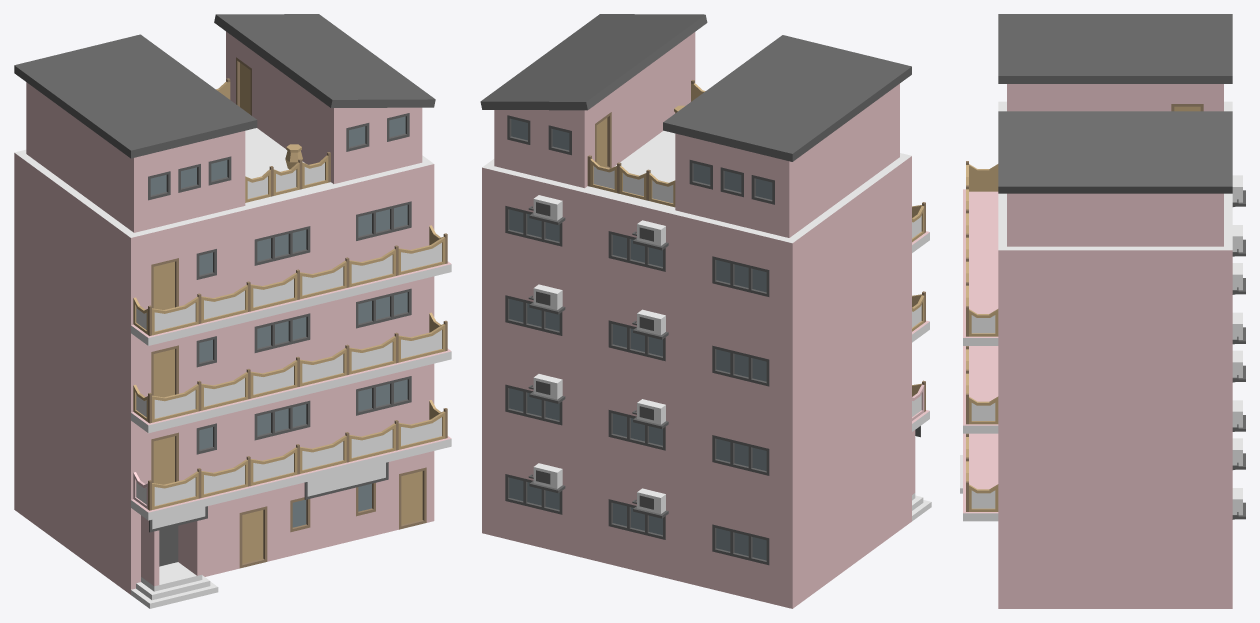
The model's file is big-house3-col.glb.
3 renders of one model, left to right at view 1: azimuth 30°, elevation 25°; view 2: azimuth 150°, elevation 25°; view 3: azimuth 270°, elevation 25°, orthographic. The views are drawn at different scales.
Visible parts, largest first — view 1: building_street2_india-col; view 2: building_street2_india-col; view 3: building_street2_india-col.
Part boxes in pixels (left/top/right/bottom): building_street2_india-col: left=14, top=14, right=451, bottom=608; building_street2_india-col: left=480, top=14, right=931, bottom=608; building_street2_india-col: left=960, top=14, right=1245, bottom=608.
Bounding box in the file's own units: 12.06 × 16.86 × 9.75.
